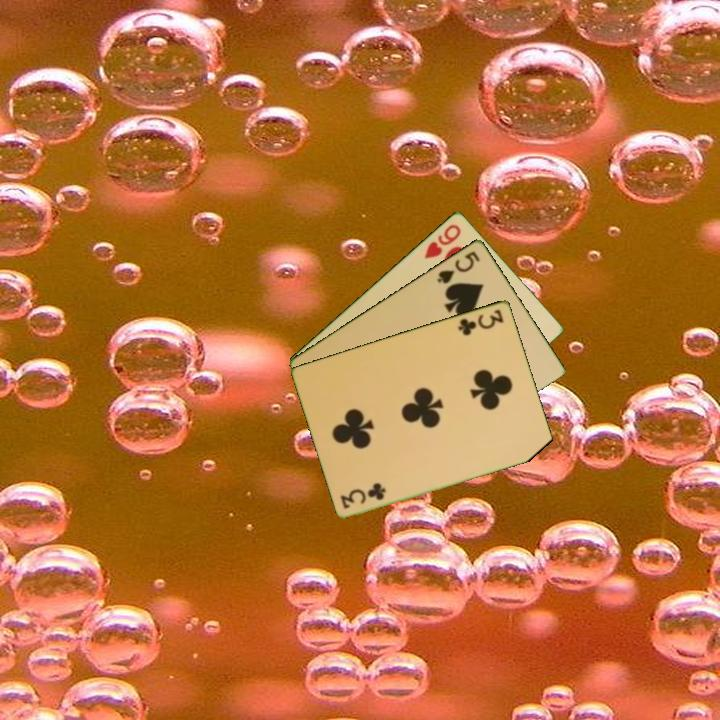3c: (455, 305, 507, 338), (337, 481, 389, 511)
5s: (433, 247, 483, 286)
9h: (421, 220, 464, 261)
